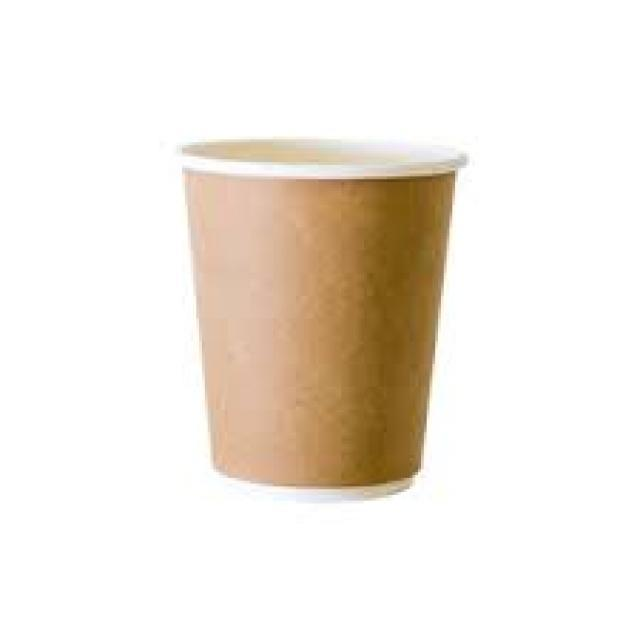trash: (175, 135, 472, 505)
